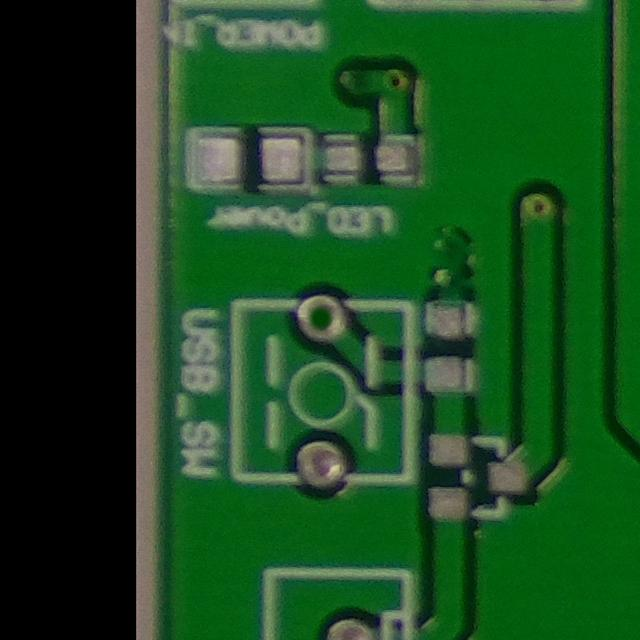missing_hole: (291, 289, 348, 351)
